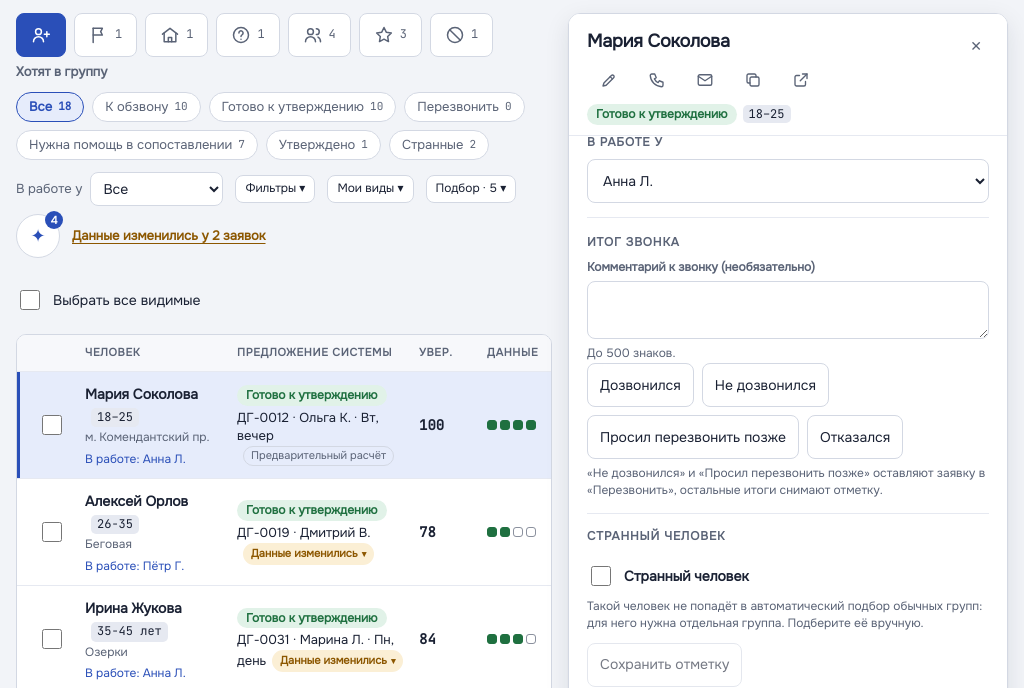
it: Карточка заявки: итог звонка › кнопка «Не дозвонился» шлёт result=no_answer и подтверждает «Записано: не дозвонился.»
The image size is (1024, 688).
(page scrolled)
Step 1. Click the button "Не дозвонился" → (765, 385), box [702, 363, 829, 407]
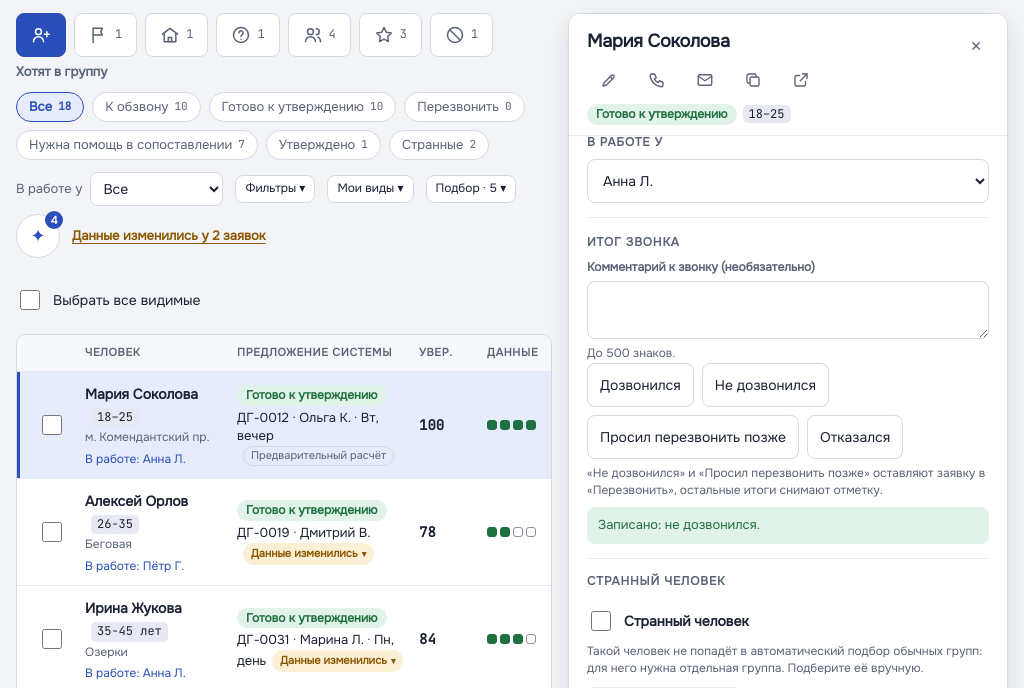
expect the text "Записано: не дозвонился." is shown: met, box [587, 507, 989, 544]
